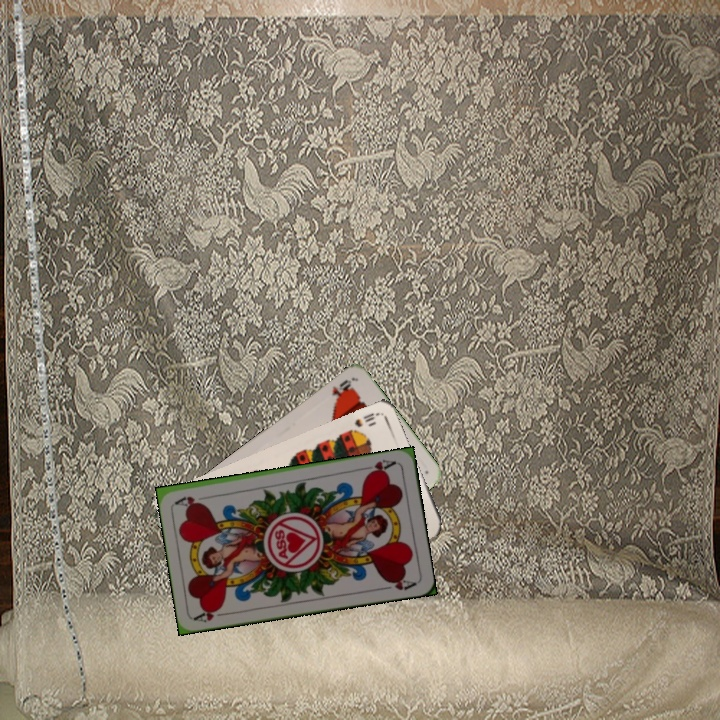HA: (191, 603, 232, 625), (359, 455, 399, 477)
HO: (327, 375, 355, 402)
S10: (344, 409, 380, 436)
